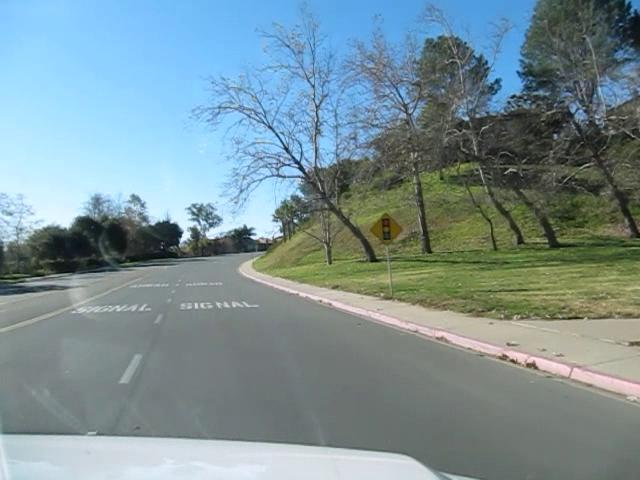signalAhead: (368, 211, 403, 246)
